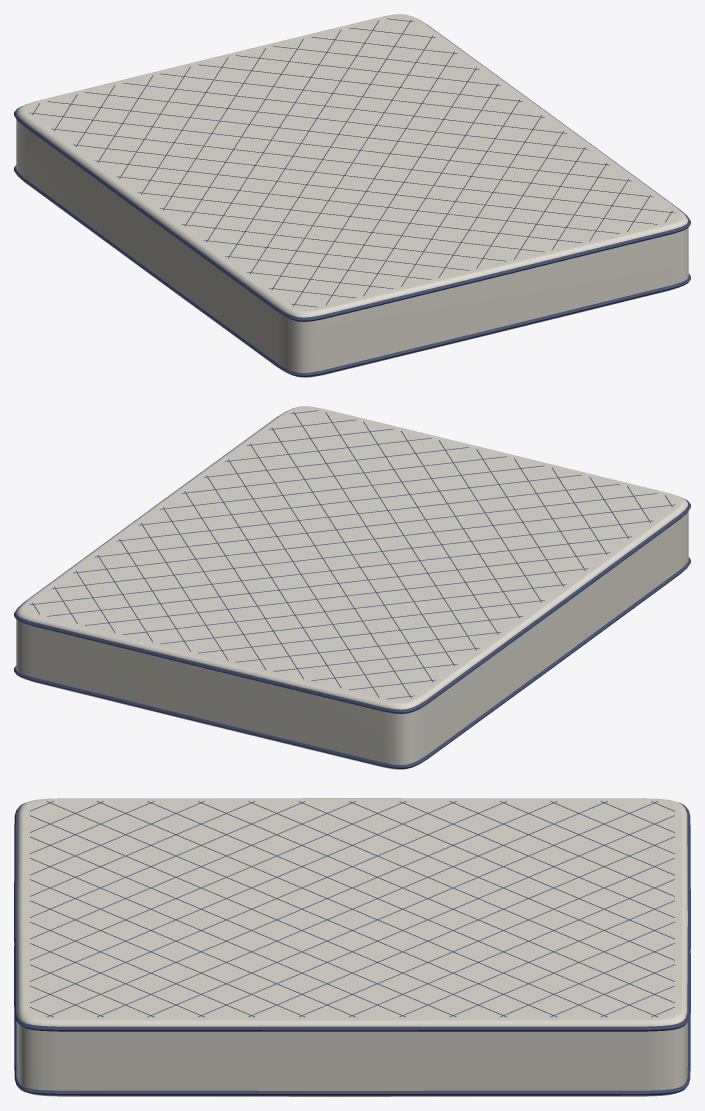
The model's file is nem_lo_xo_160.glb.
3 views of the same model, one above another, from view 1: azimuth 30°, elevation 25°; view 2: azimuth 150°, elevation 25°; view 3: azimuth 270°, elevation 25° (orthographic). The views are drawn at different scales.
Visible parts, largest first — view 1: nem_lo_xo_160; view 2: nem_lo_xo_160; view 3: nem_lo_xo_160.
Part boxes in pixels (x1=…): nem_lo_xo_160: x1=14, y1=14, x2=690, y2=377; nem_lo_xo_160: x1=14, y1=406, x2=690, y2=769; nem_lo_xo_160: x1=14, y1=798, x2=690, y2=1096.
Bounding box in the file's own units: 1.62 × 0.2518 × 2.02.
